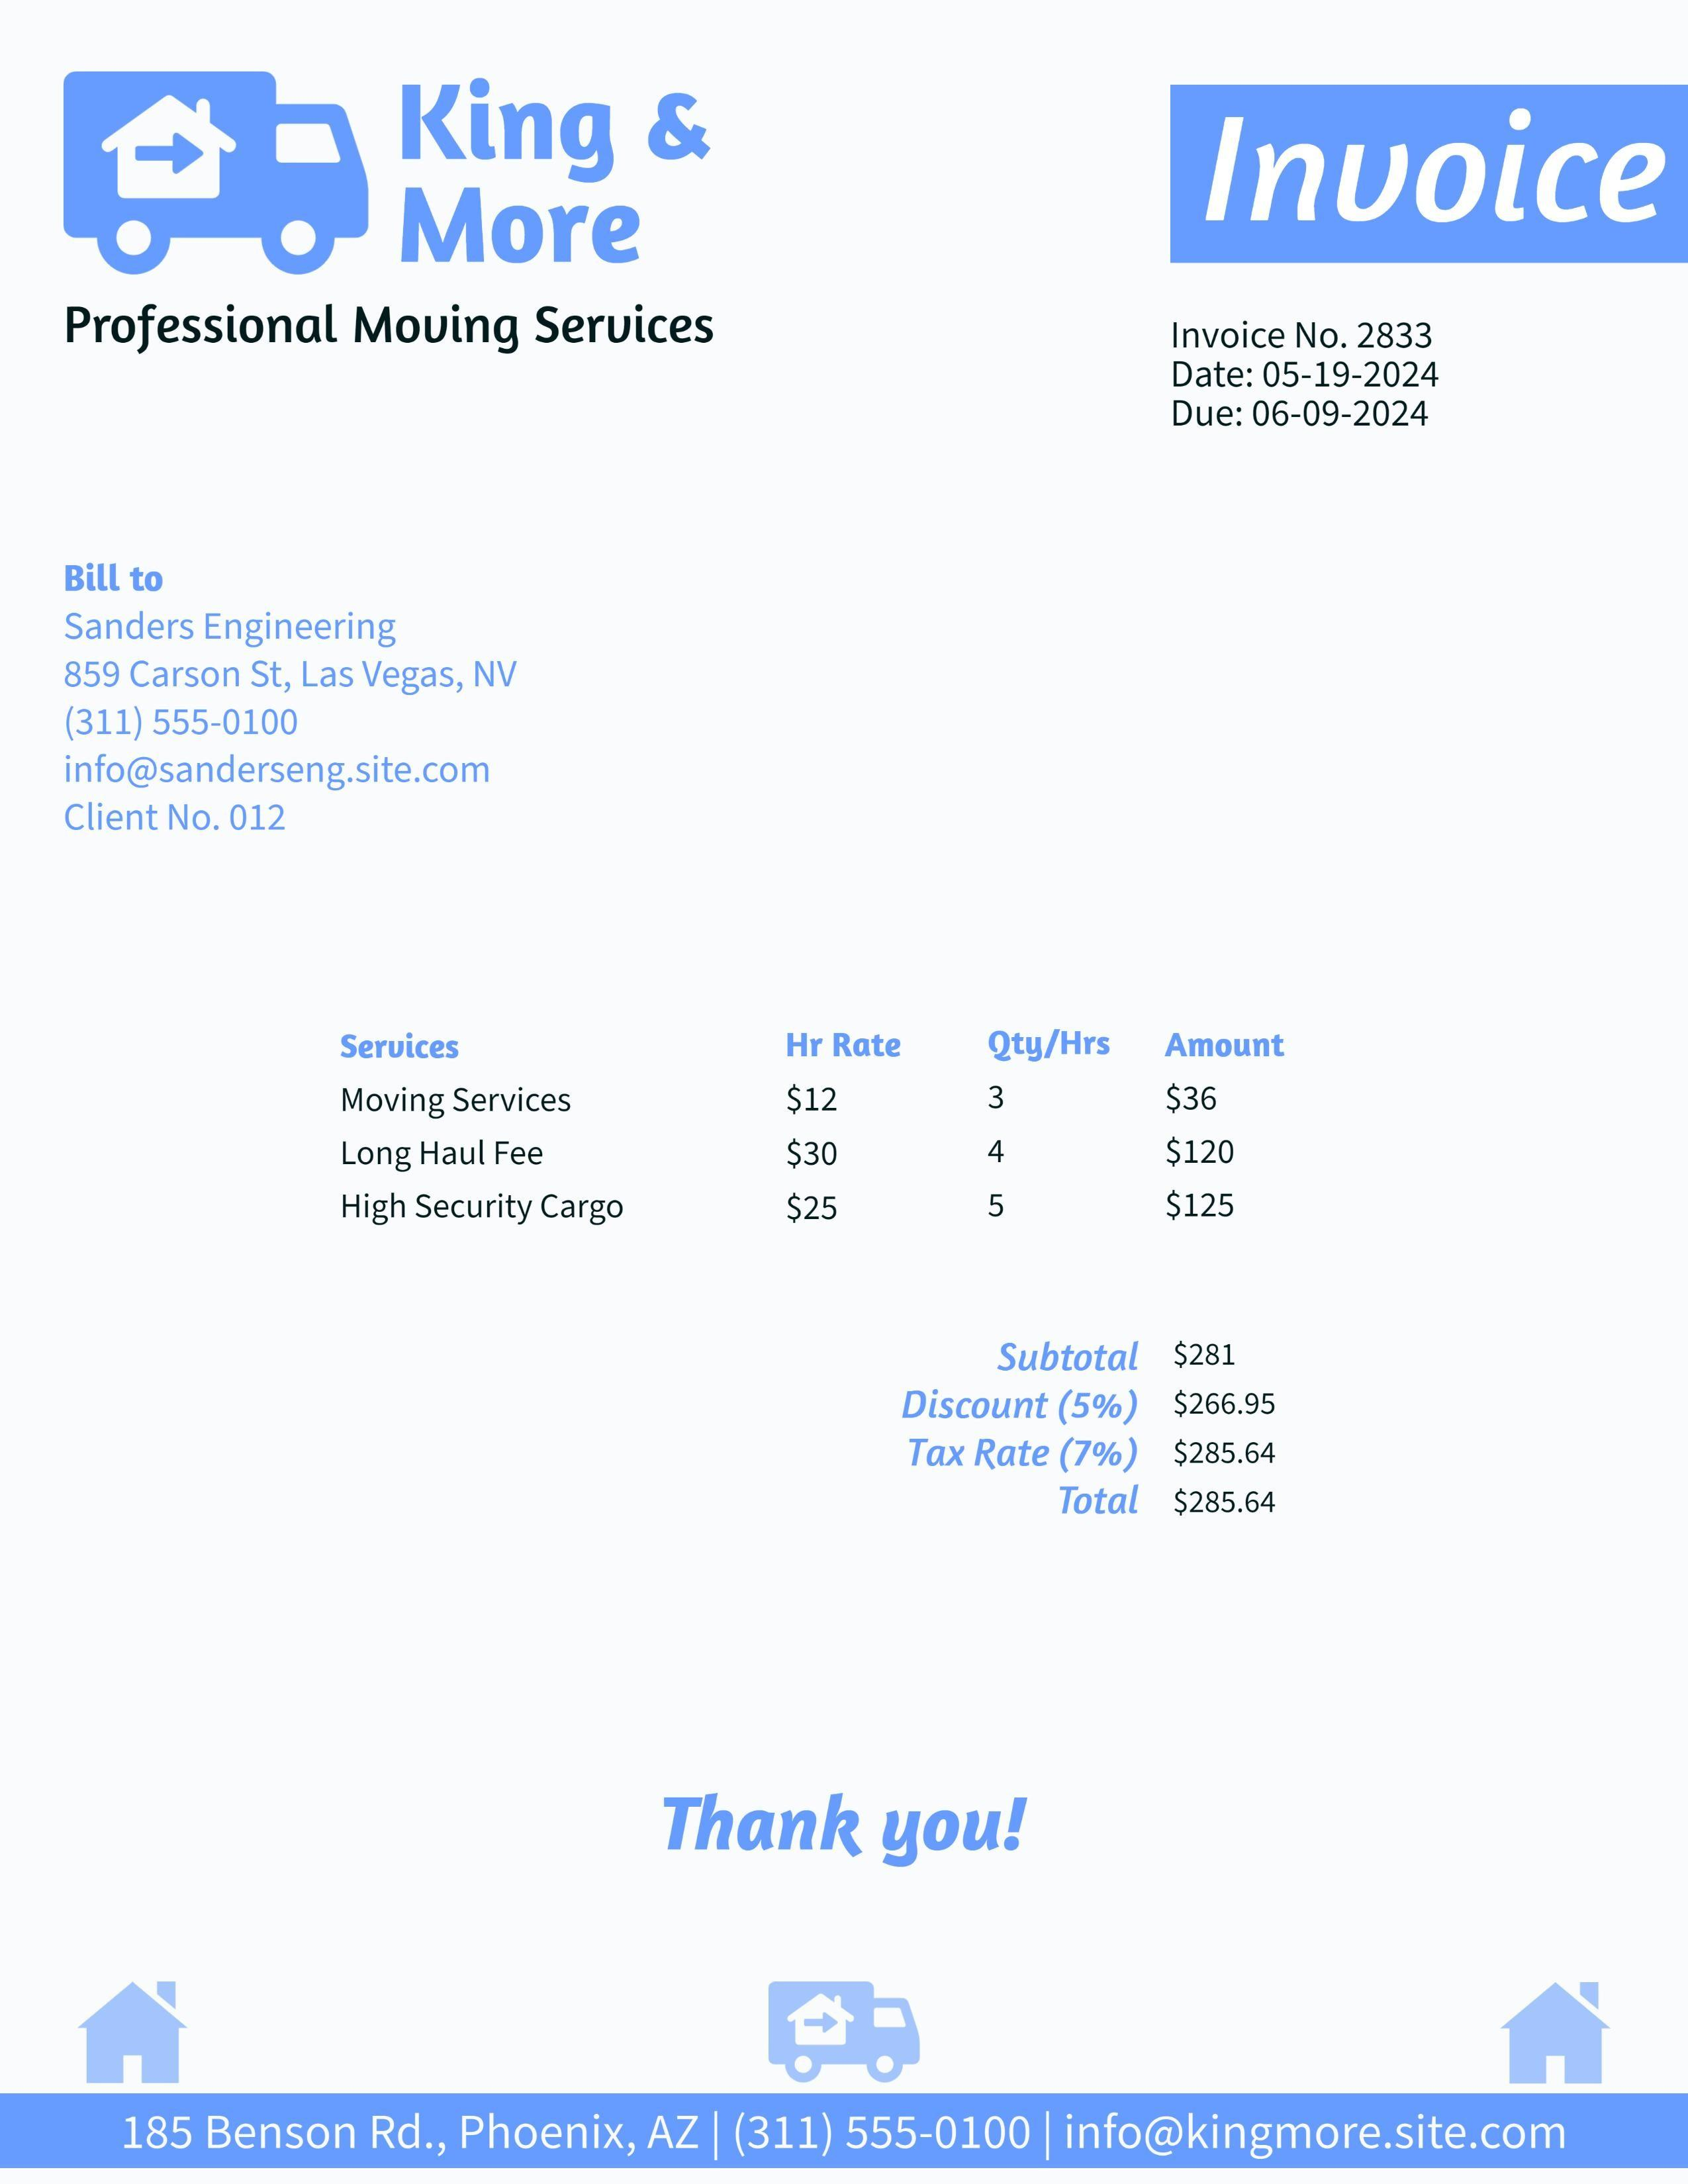ROI: (296, 969, 1299, 1253), (44, 533, 550, 870), (883, 1311, 1317, 1541), (375, 69, 729, 283), (1135, 310, 1503, 441)
